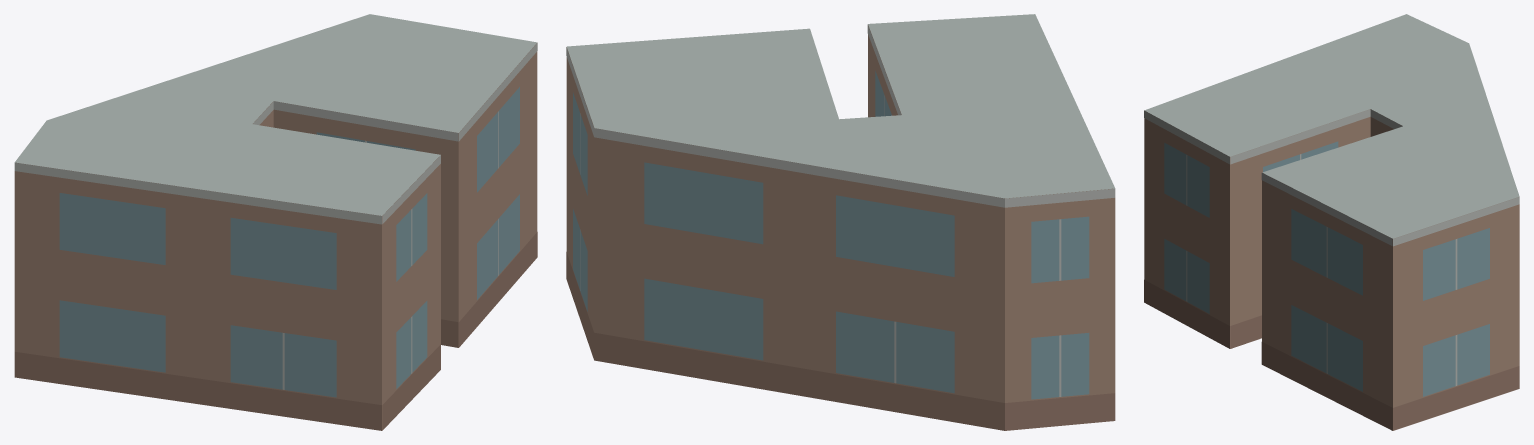
Rendered from survey-upis-32756901.glb.
3 views of the same model, side by side, from view 1: azimuth 30°, elevation 25°; view 2: azimuth 150°, elevation 25°; view 3: azimuth 270°, elevation 25° (orthographic). The views are drawn at different scales.
Parts seen in each view (by area): view 1: survey-upis-32756901.tmp; view 2: survey-upis-32756901.tmp; view 3: survey-upis-32756901.tmp.
Boxes of the visible parts, x1,y1,x2,y2 form: survey-upis-32756901.tmp: (14, 14, 537, 430); survey-upis-32756901.tmp: (566, 14, 1115, 430); survey-upis-32756901.tmp: (1144, 14, 1519, 430).
Bounding box in the file's own units: 15.31 × 6.1 × 10.81.
